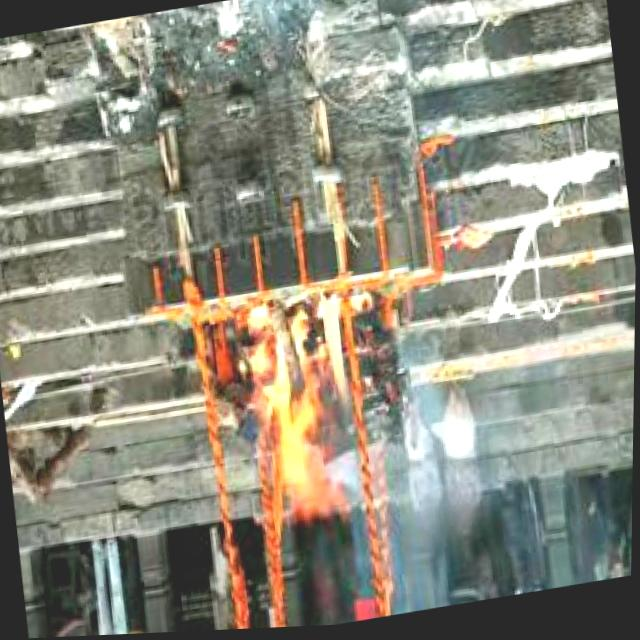Fire: (239, 287, 374, 532)
